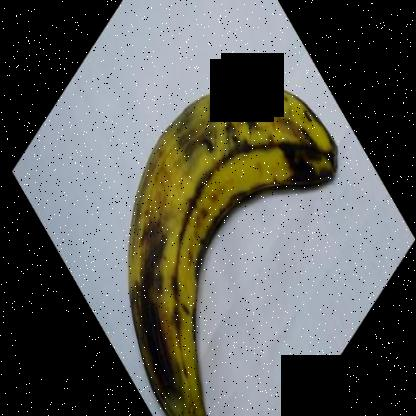overripe: (126, 80, 349, 414)
